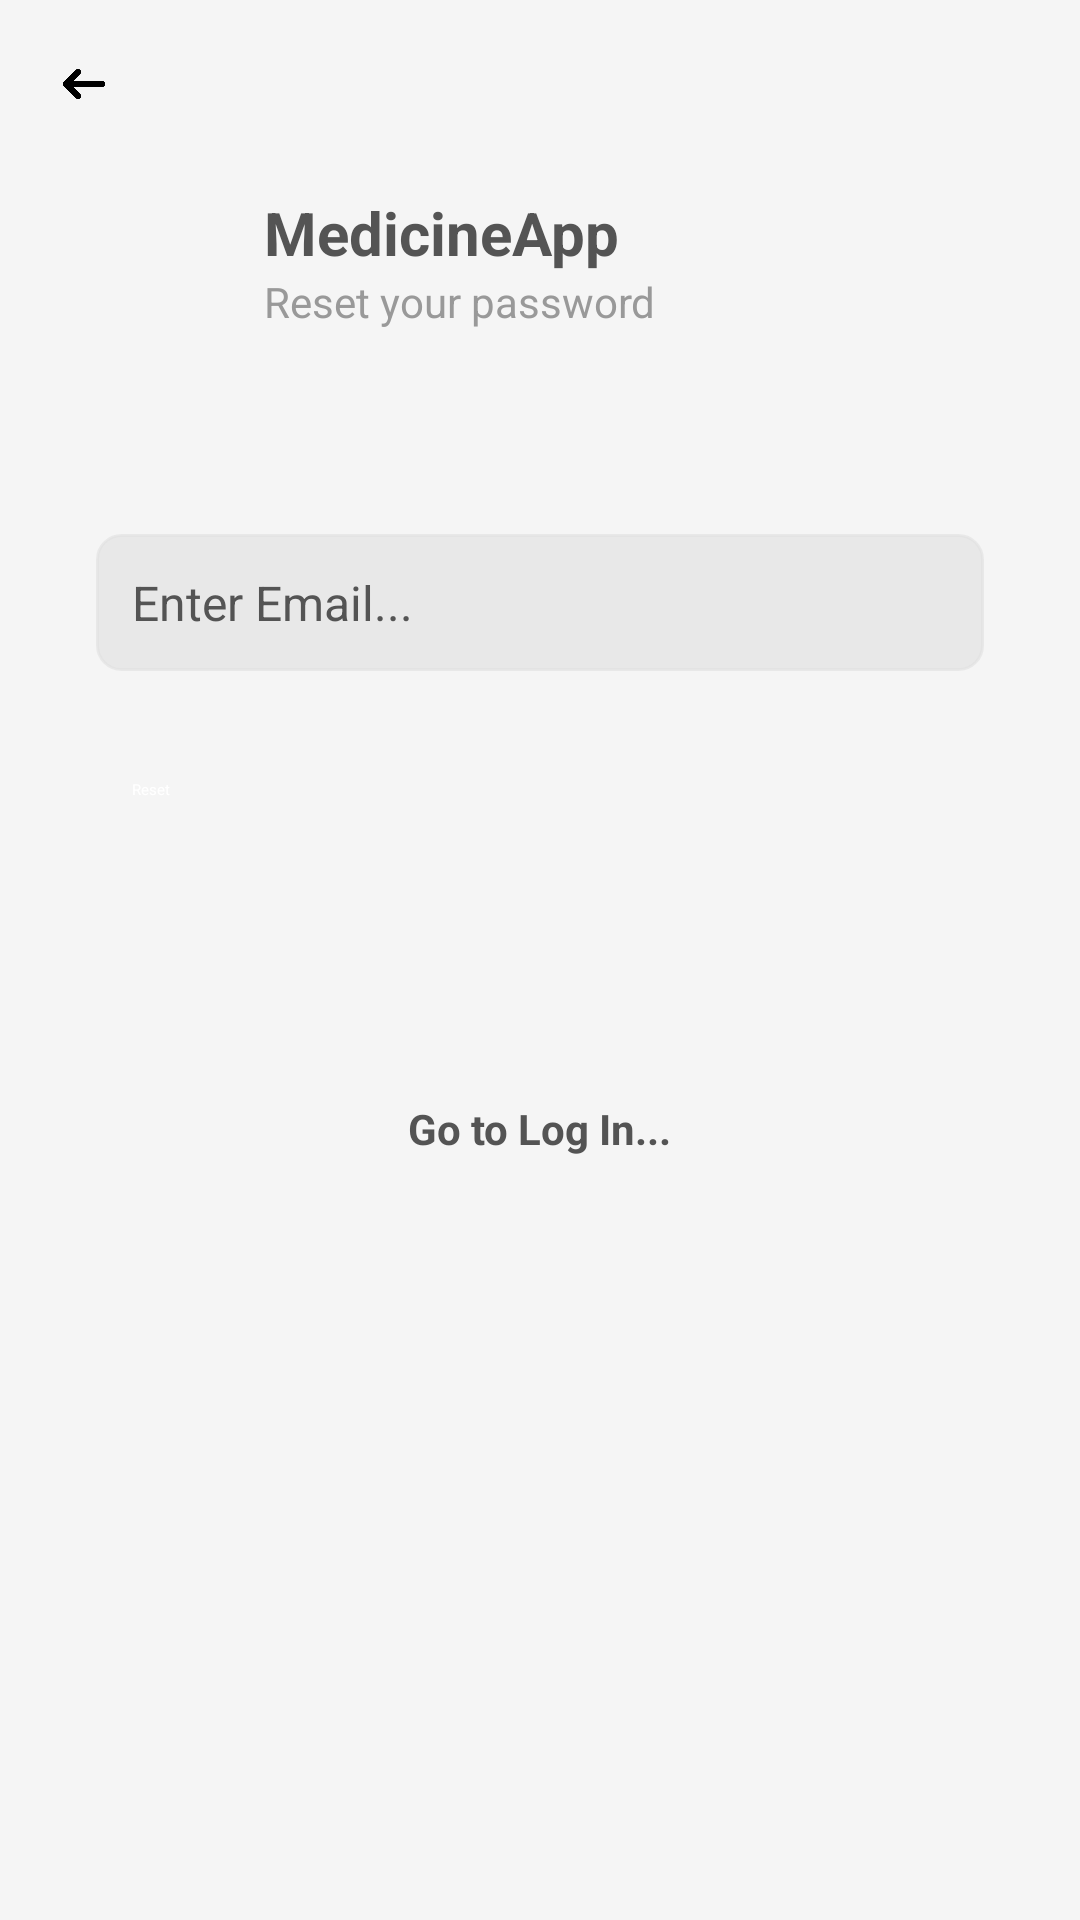

Where to tap for icons on this 1080px x 1920px app screen, as point (x, y):
Back to Login Fragment: point (84, 84)
